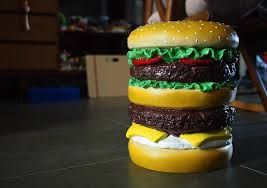hamburger: (125, 18, 236, 172)
